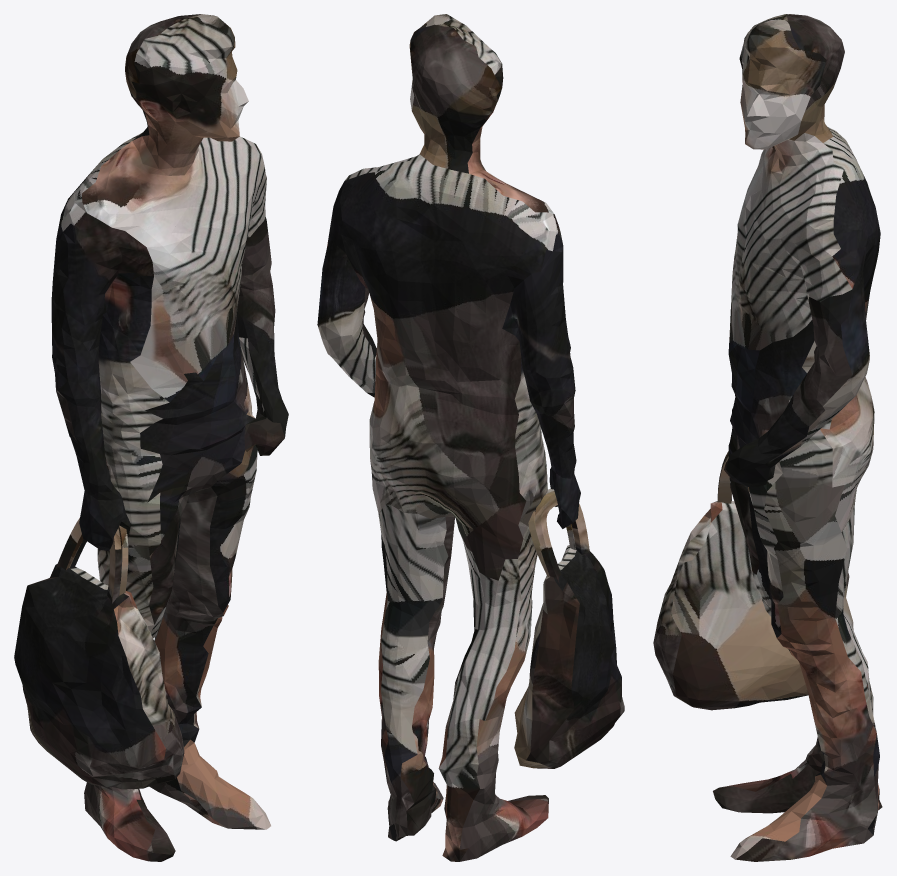
File: man_11.glb
3 views of the same model, side by side, from view 1: azimuth 30°, elevation 25°; view 2: azimuth 150°, elevation 25°; view 3: azimuth 270°, elevation 25° (orthographic). The views are drawn at different scales.
Parts seen in each view (by area): view 1: man_11; view 2: man_11; view 3: man_11.
Part boxes in pixels (left/top/right/bottom): man_11: left=14, top=14, right=288, bottom=861; man_11: left=317, top=14, right=624, bottom=861; man_11: left=653, top=14, right=882, bottom=861.
Bounding box in the file's own units: 0.5508 × 1.66 × 0.4225.
Materials: 1 (1 with a texture image).
